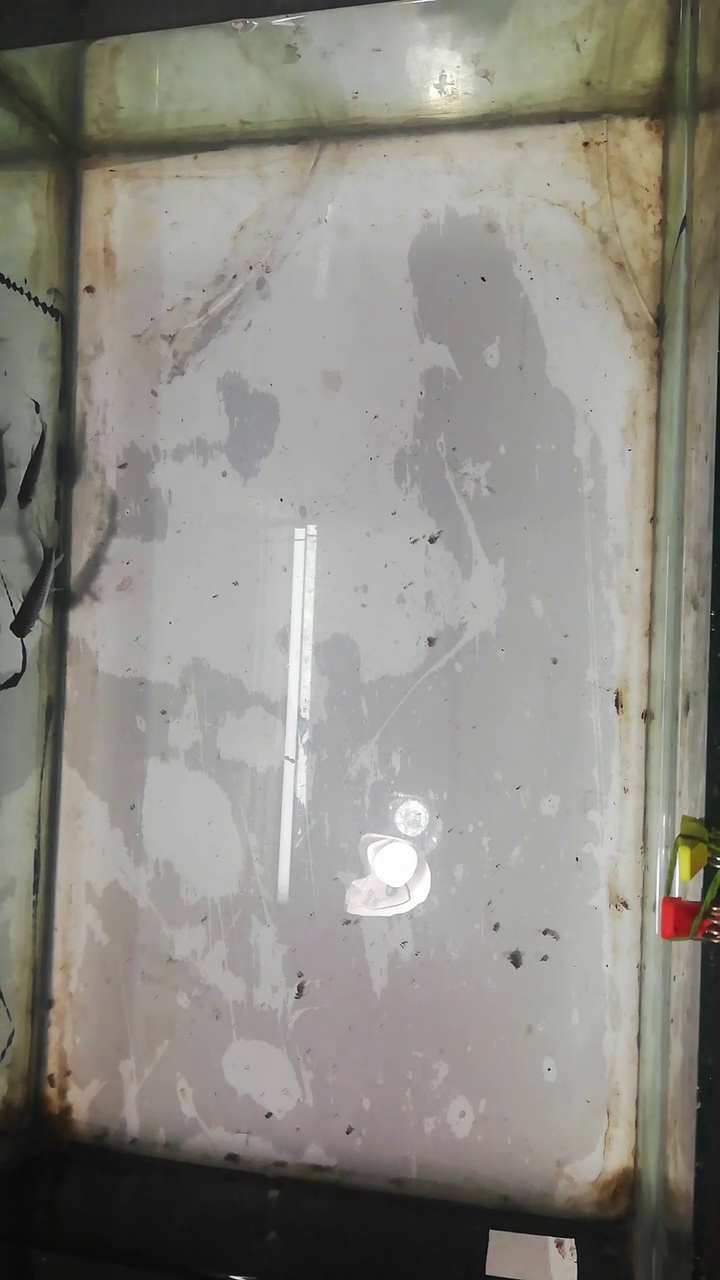fish1: (13, 537, 60, 645)
fish2: (17, 421, 46, 510)
